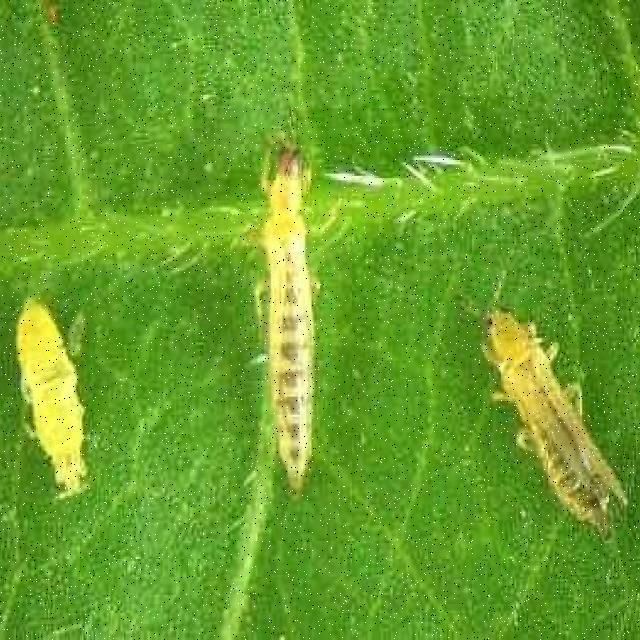Thrips: (457, 239, 628, 530), (248, 134, 335, 497), (1, 286, 101, 519)
